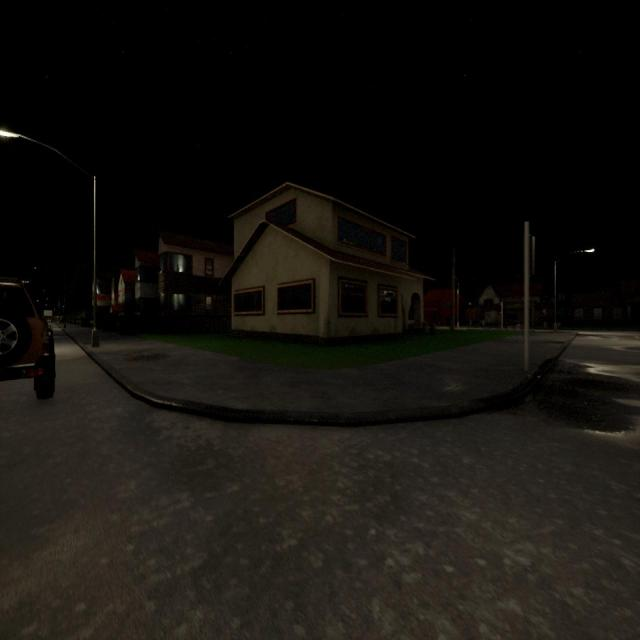Vehicle: (0, 277, 55, 399)
